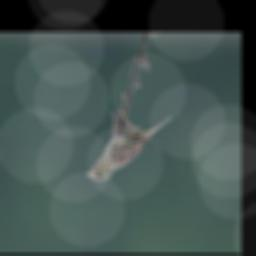Sparrow: (88, 110, 173, 183)
